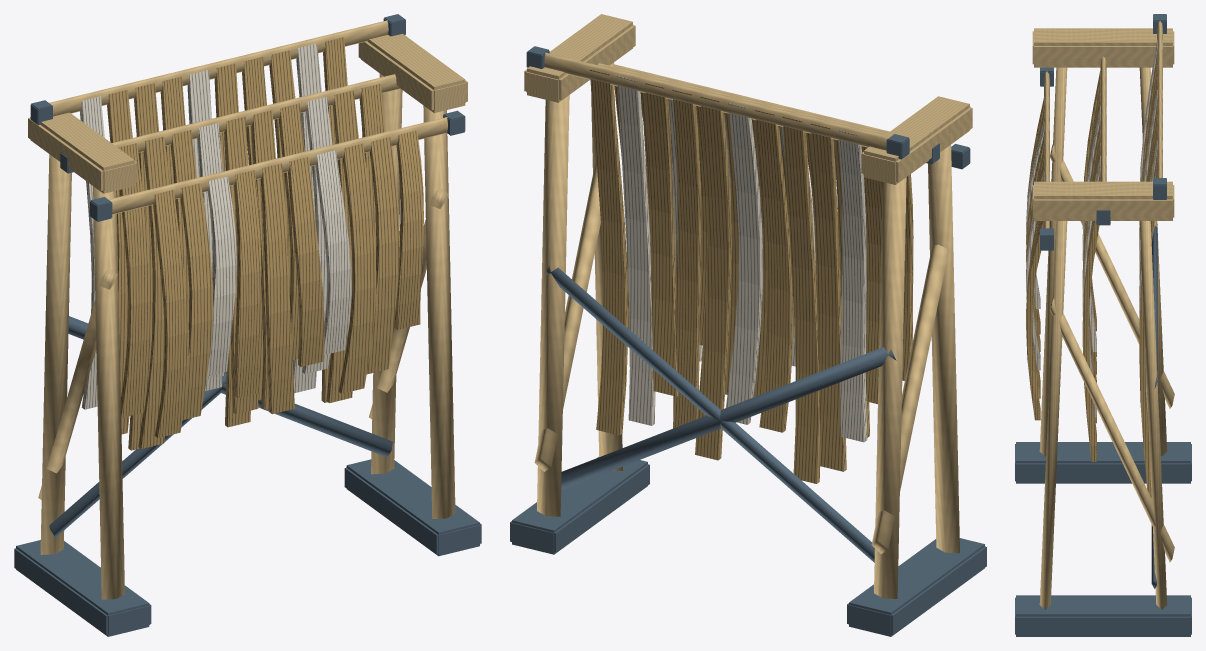
3 views of the same model, side by side, from view 1: azimuth 30°, elevation 25°; view 2: azimuth 150°, elevation 25°; view 3: azimuth 270°, elevation 25° (orthographic). The views are drawn at different scales.
Parts seen in each view (by area): view 1: Beech trestles, Front ribbon bank, Middle ribbon bank, Rear ribbon bank, Drying combs; view 2: Rear ribbon bank, Beech trestles, Middle ribbon bank, Drying combs, Front ribbon bank; view 3: Beech trestles, Middle ribbon bank, Front ribbon bank, Drying combs, Rear ribbon bank.
Boxes of the visible parts, bbox=[...] form: Beech trestles: bbox=[14, 33, 481, 636]; Front ribbon bank: bbox=[153, 130, 423, 437]; Middle ribbon bank: bbox=[118, 83, 384, 448]; Rear ribbon bank: bbox=[80, 37, 347, 450]; Drying combs: bbox=[30, 14, 465, 221]; Rear ribbon bank: bbox=[589, 69, 867, 483]; Beech trestles: bbox=[510, 14, 986, 636]; Middle ribbon bank: bbox=[614, 86, 882, 437]; Drying combs: bbox=[526, 46, 970, 169]; Front ribbon bank: bbox=[640, 92, 913, 380]; Beech trestles: bbox=[1015, 28, 1191, 636]; Middle ribbon bank: bbox=[1082, 68, 1106, 461]; Front ribbon bank: bbox=[1026, 97, 1049, 420]; Drying combs: bbox=[1040, 14, 1166, 250]; Rear ribbon bank: bbox=[1139, 40, 1162, 497].
Bounding box in the file's own units: 2.45 × 2.96 × 1.05.
1 material, 1 textured.
